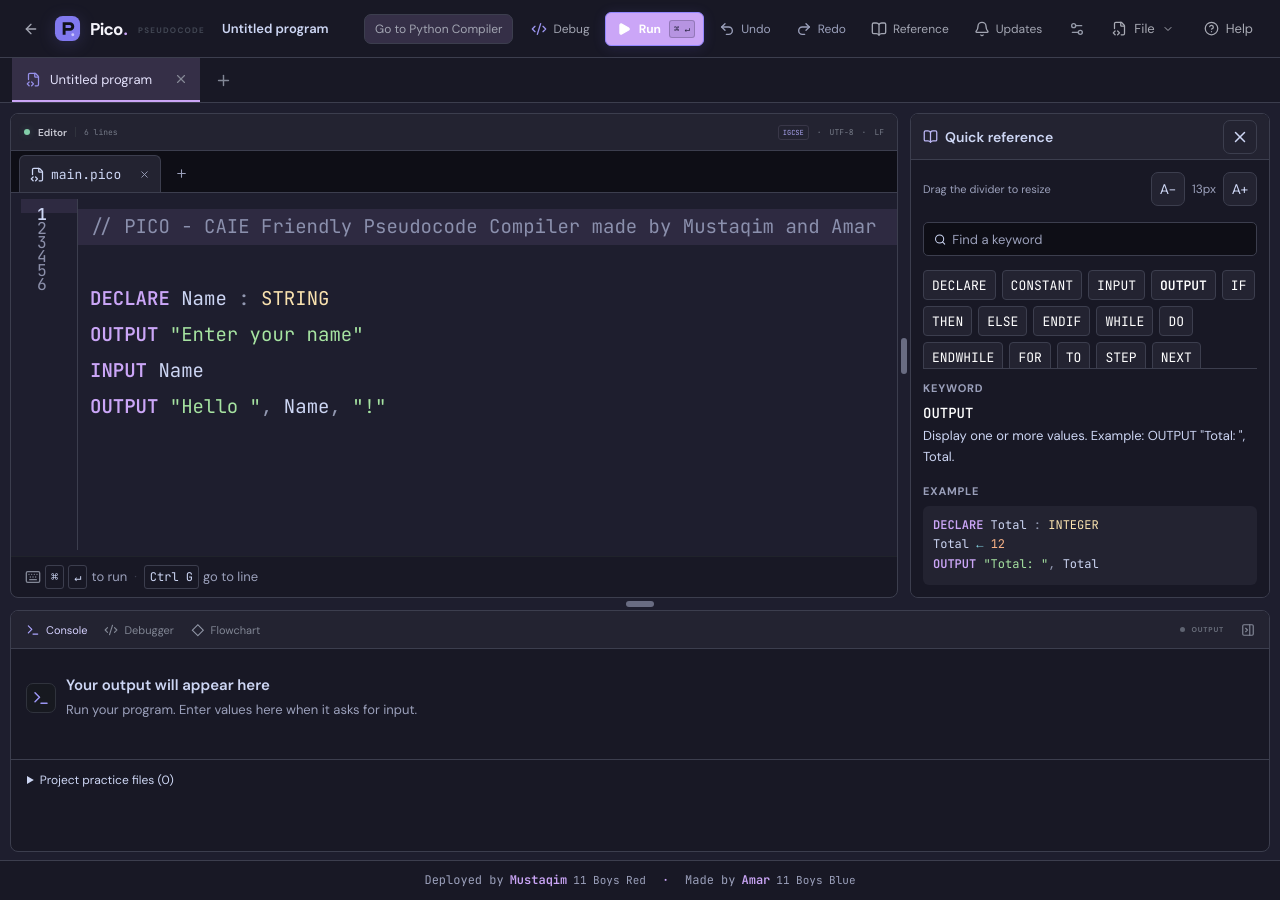
Test: workspace execution integration › stops a pending run and rejects a late worker response
Click the button "Run ⌘ ↵" at (654, 28), box [605,12,704,46]
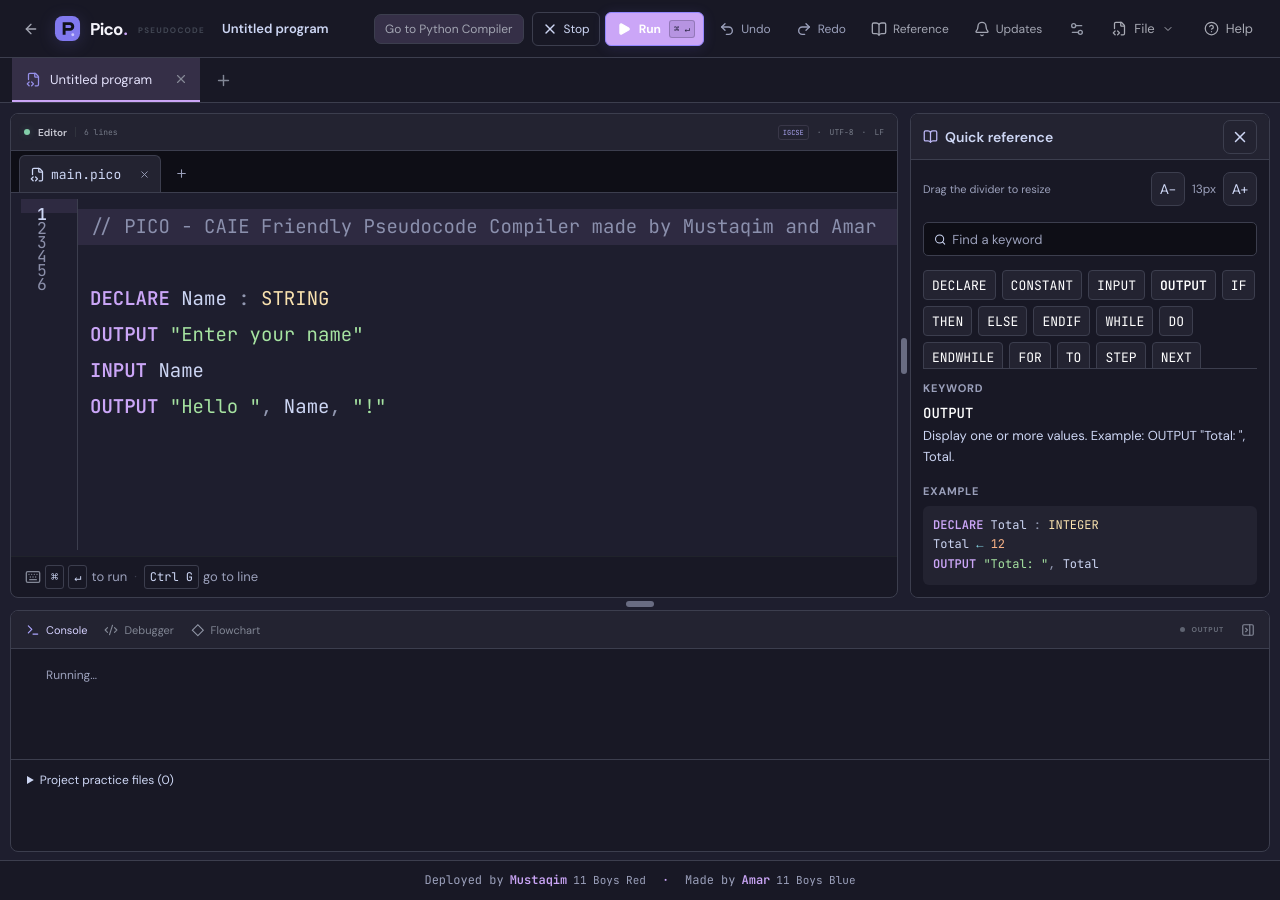
Click the button "Stop" at (566, 28), box [532,12,600,46]
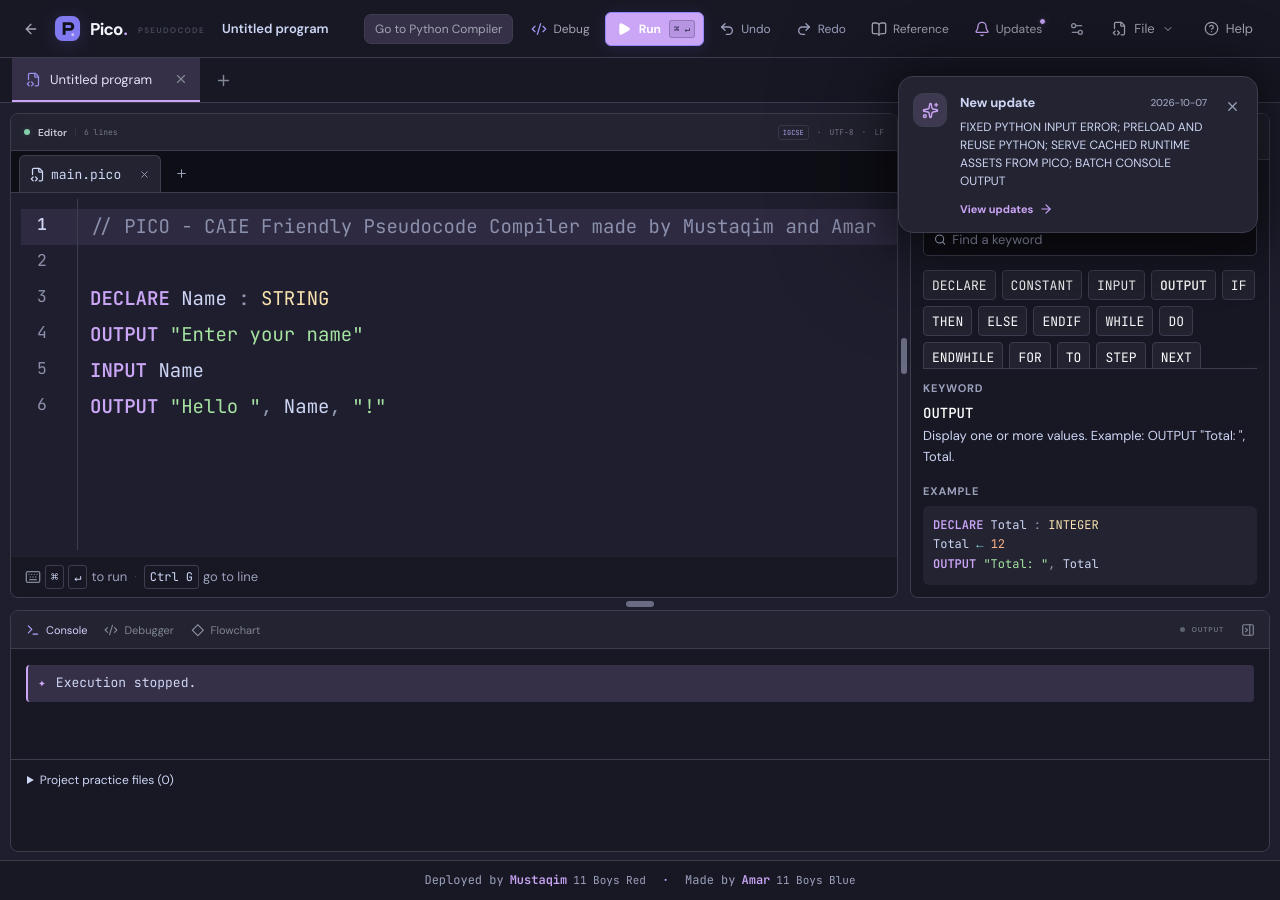
Check: the text "Execution stopped." is shown, box [56,673,196,694]
